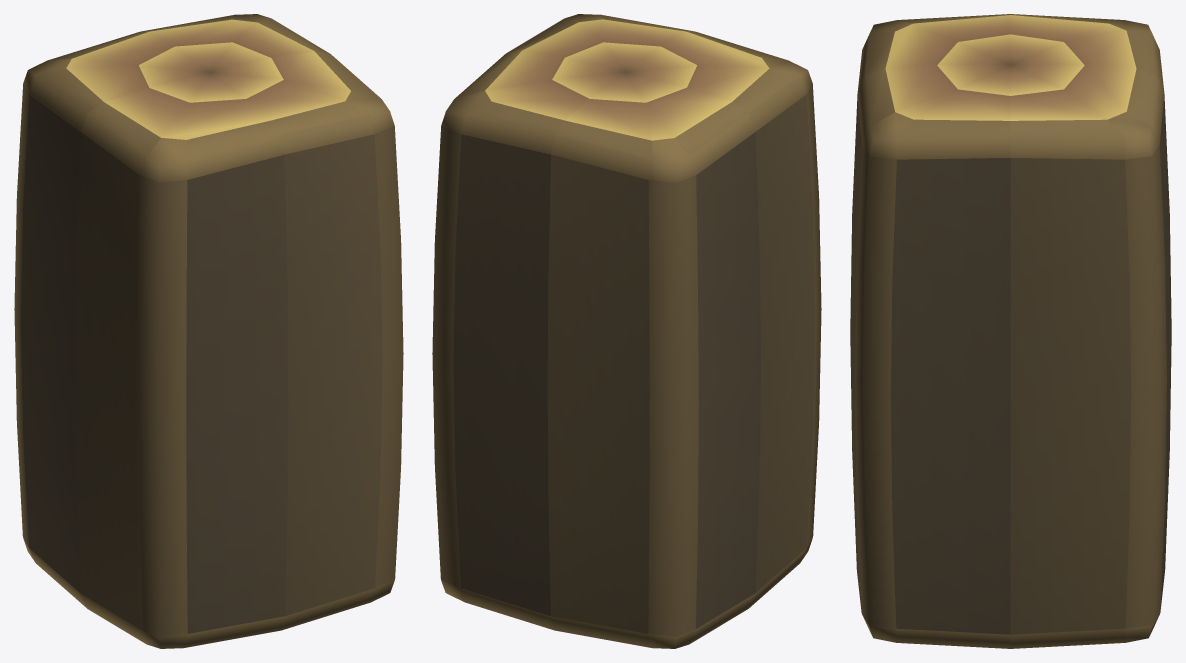
The model's file is wooden_cubes9.fbx.
3 renders of one model, left to right at view 1: azimuth 30°, elevation 25°; view 2: azimuth 150°, elevation 25°; view 3: azimuth 270°, elevation 25°, orthographic. The views are drawn at different scales.
Parts seen in each view (by area): view 1: wooden_cubes9; view 2: wooden_cubes9; view 3: wooden_cubes9.
Boxes of the visible parts, left/top/right/bottom form: wooden_cubes9: left=14, top=14, right=403, bottom=648; wooden_cubes9: left=432, top=14, right=821, bottom=648; wooden_cubes9: left=850, top=14, right=1171, bottom=648.
Bounding box in the file's own units: 5826 × 10756 × 5858.
1 material, 1 textured.
